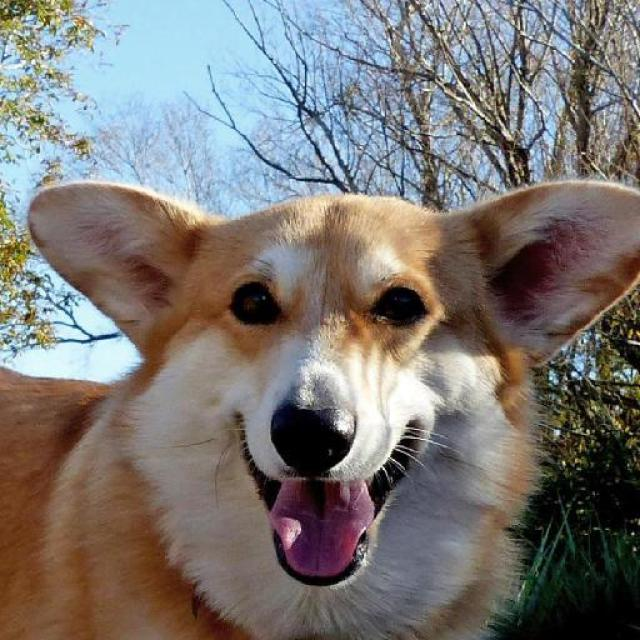happy: (32, 96, 640, 629)
